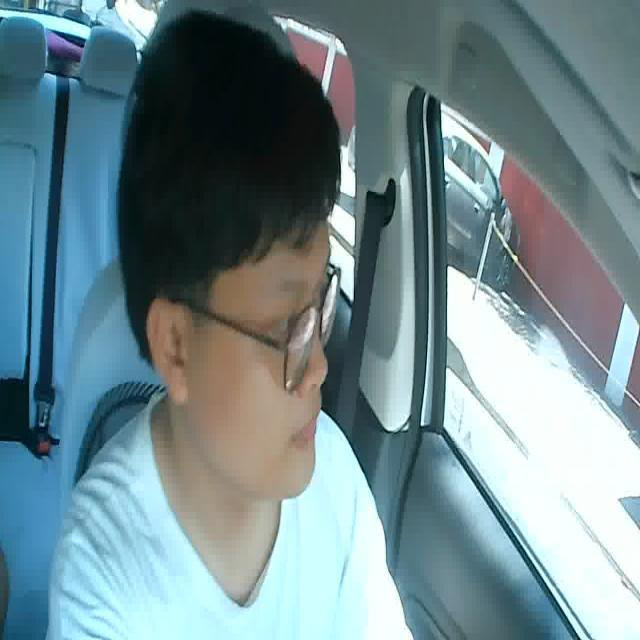Eye-Open: (272, 311, 298, 337), (314, 284, 332, 304)
Inattentive: (117, 8, 342, 500)
Normal: (281, 414, 318, 446)
